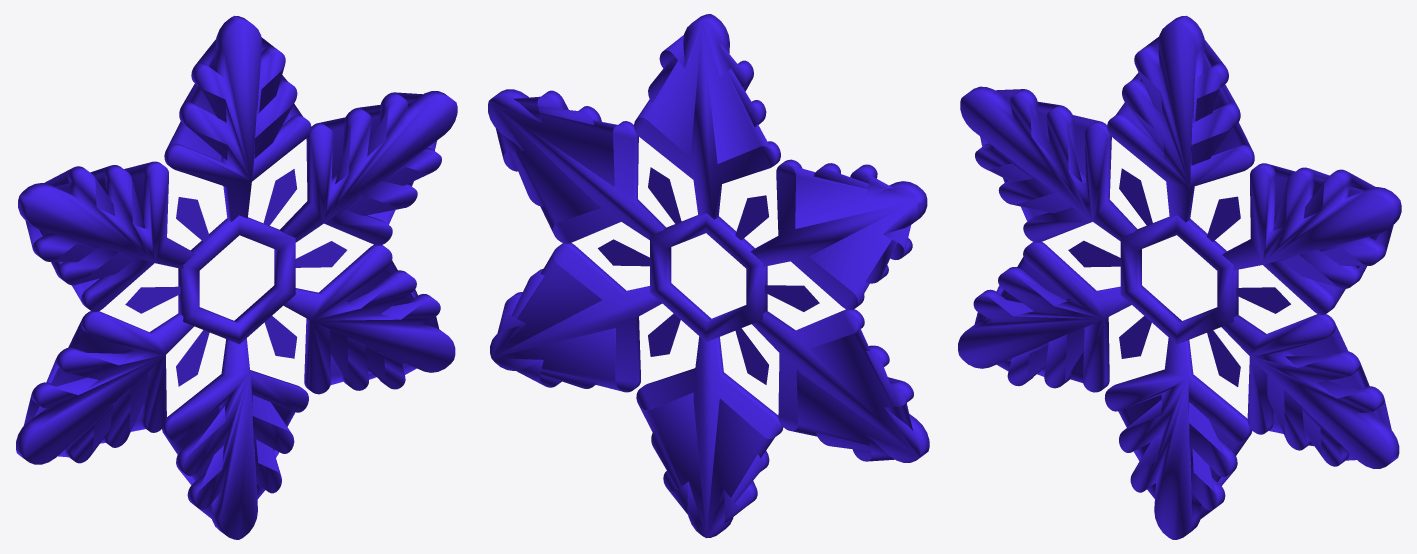
File: SnowFlake3.fbx
3 views of the same model, side by side, from view 1: azimuth 30°, elevation 25°; view 2: azimuth 150°, elevation 25°; view 3: azimuth 330°, elevation 25° (orthographic).
Visible parts, largest first — view 1: Cube.001; view 2: Cube.001; view 3: Cube.001.
Part boxes in pixels (box(x1,y1,x2,y2)): Cube.001: box(16, 15, 457, 539); Cube.001: box(488, 14, 929, 538); Cube.001: box(958, 15, 1401, 539).
Bounding box in the file's own units: 12.44 × 14.2 × 0.5781.
